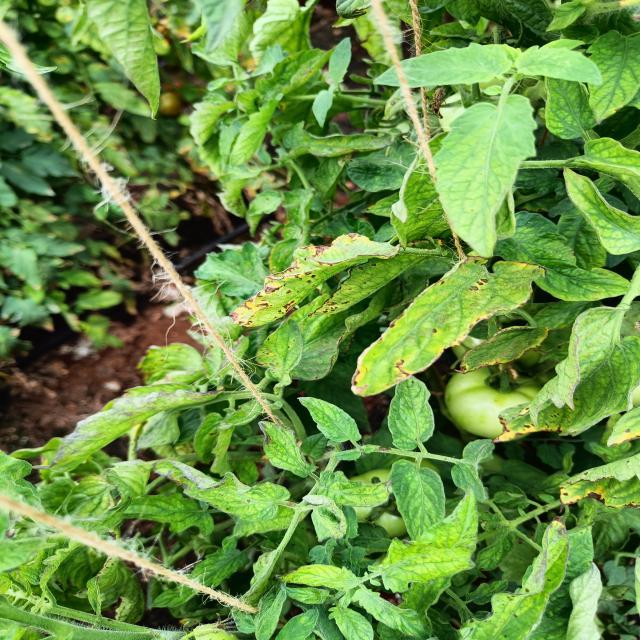Tomato mosaic virus leaf: (350, 254, 550, 404), (222, 232, 398, 330), (484, 364, 620, 452), (551, 453, 640, 516)
